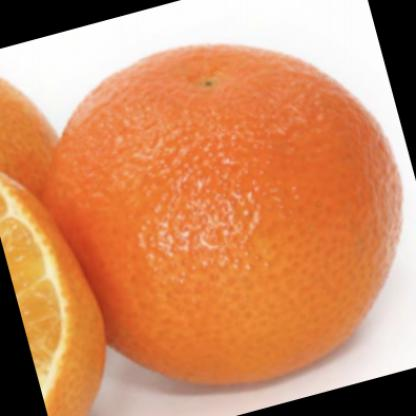orange: (54, 41, 401, 388)
